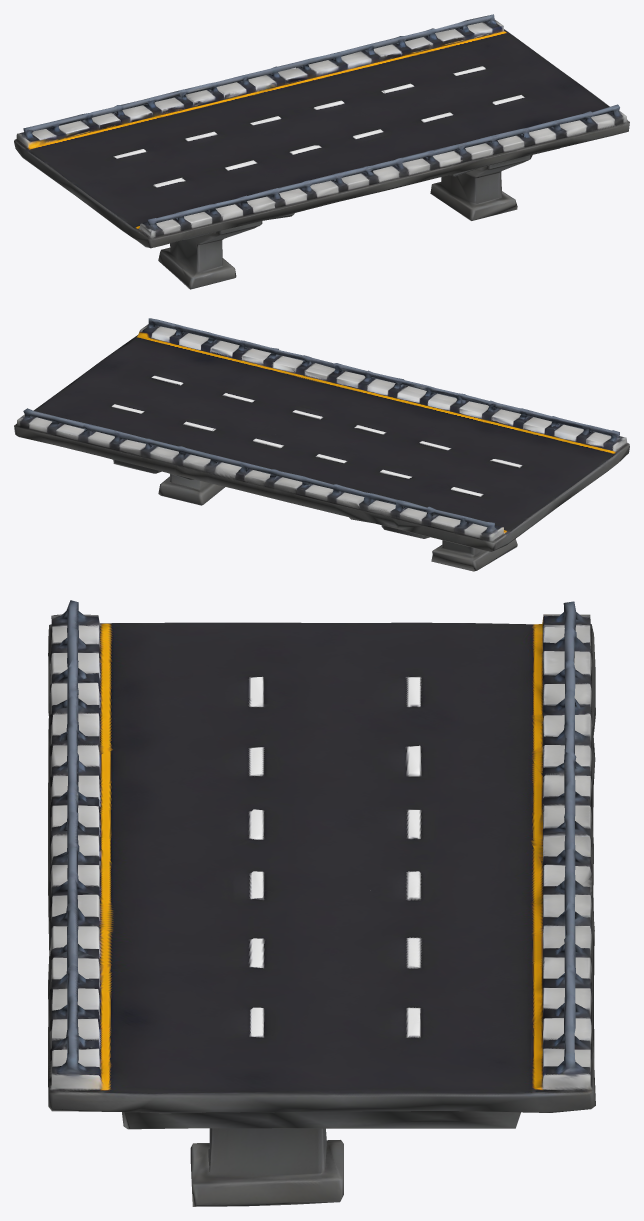
File: highwaybridge.glb
The picture shows the model from 3 angles, top to bottom: view 1: azimuth 30°, elevation 25°; view 2: azimuth 150°, elevation 25°; view 3: azimuth 270°, elevation 25°; orthographic projection. The views are drawn at different scales.
Visible parts, largest first — view 1: tripo_node_23e5ad35-bcdd-4c17-939b-9888f0bec453; view 2: tripo_node_23e5ad35-bcdd-4c17-939b-9888f0bec453; view 3: tripo_node_23e5ad35-bcdd-4c17-939b-9888f0bec453.
Part boxes in pixels (<box>): tripo_node_23e5ad35-bcdd-4c17-939b-9888f0bec453: <box>14,14,629,289</box>; tripo_node_23e5ad35-bcdd-4c17-939b-9888f0bec453: <box>14,318,629,571</box>; tripo_node_23e5ad35-bcdd-4c17-939b-9888f0bec453: <box>48,600,595,1206</box>.
Bounding box in the file's own units: 1 × 0.217 × 0.4885.
Materials: 1 (1 with a texture image).
